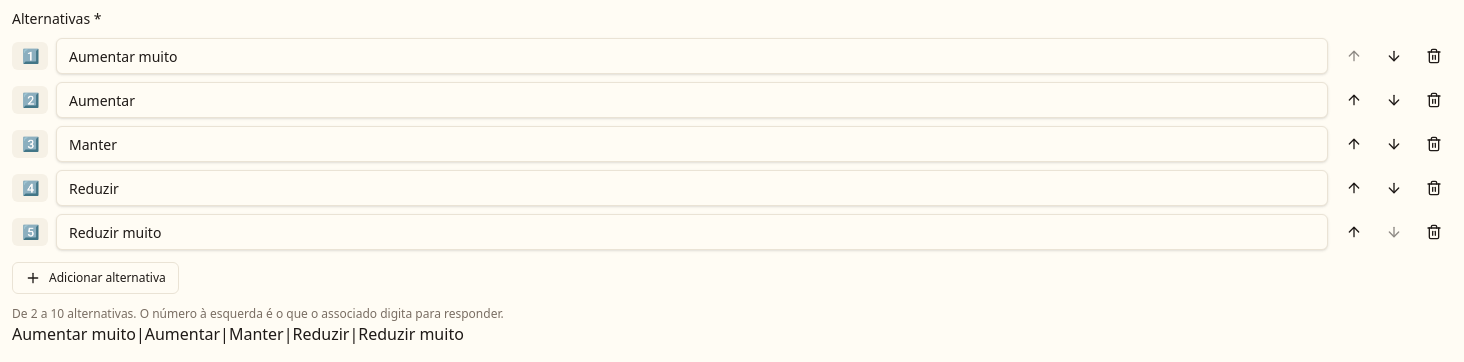
Test: reordenação (§17) › mover para baixo troca com o vizinho de baixo
What coordinates should you click on to do the following:
click the button named "mover \"Aumentar muito\" para baixo"
I would click on:
 (1394, 56)
Its box is [1376,38,1412,74].
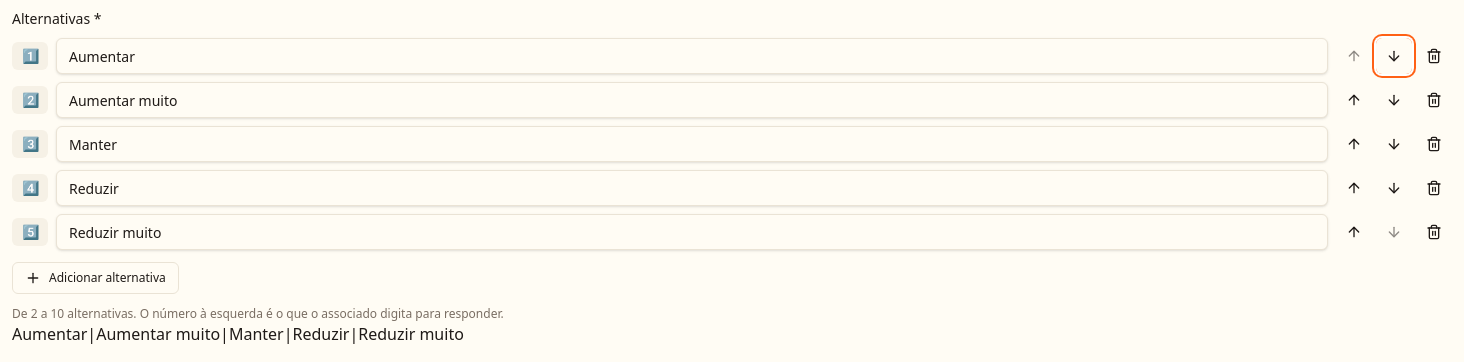
Check: the text with test id "ordem" reads "Aumentar|Aumentar muito|Manter|Reduzir|Reduzir muito", box [12,323,464,345]
